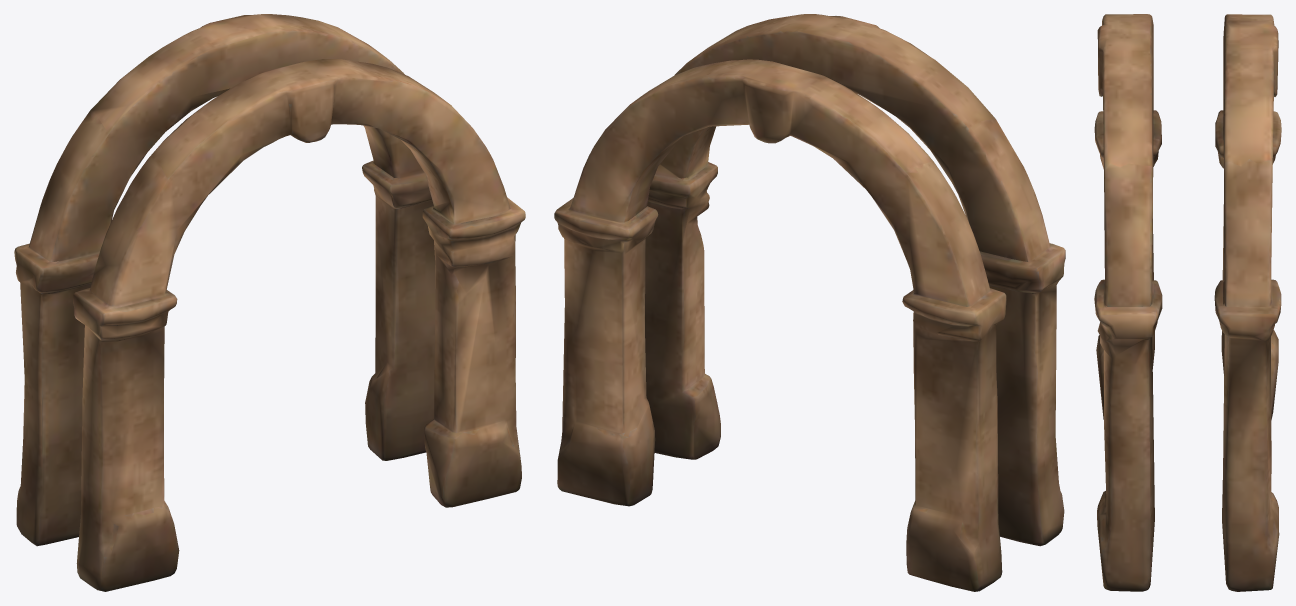
File: ancient-sandstone-street-arch-v002.glb
The picture shows the model from 3 angles, left to right: view 1: azimuth 30°, elevation 25°; view 2: azimuth 150°, elevation 25°; view 3: azimuth 270°, elevation 25°; orthographic projection.
Visible parts, largest first — view 1: ancient-sandstone-street-arch; view 2: ancient-sandstone-street-arch; view 3: ancient-sandstone-street-arch.
Boxes of the visible parts, x1,y1,x2,y2 form: ancient-sandstone-street-arch: [14, 14, 525, 591]; ancient-sandstone-street-arch: [554, 14, 1065, 591]; ancient-sandstone-street-arch: [1094, 14, 1281, 591].
Bounding box in the file's own units: 3.51 × 3.63 × 1.35.
Materials: 1 (1 with a texture image).
